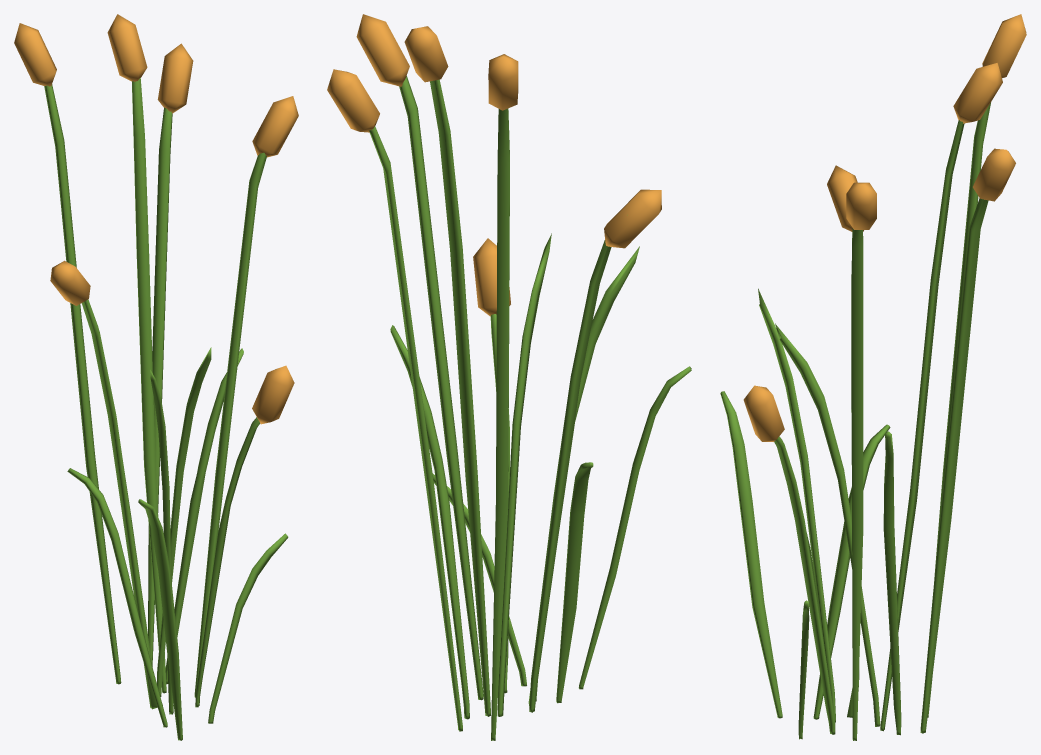
Rendered from Grass5.fbx.
3 renders of one model, left to right at view 1: azimuth 30°, elevation 25°; view 2: azimuth 150°, elevation 25°; view 3: azimuth 270°, elevation 25°, orthographic. The views are drawn at different scales.
Visible parts, largest first — view 1: Grass5; view 2: Grass5; view 3: Grass5.
Part boxes in pixels (x1=…): Grass5: x1=14, y1=14, x2=298, y2=740; Grass5: x1=327, y1=14, x2=691, y2=740; Grass5: x1=720, y1=14, x2=1026, y2=740.
Bounding box in the file's own units: 124 × 303 × 124.
